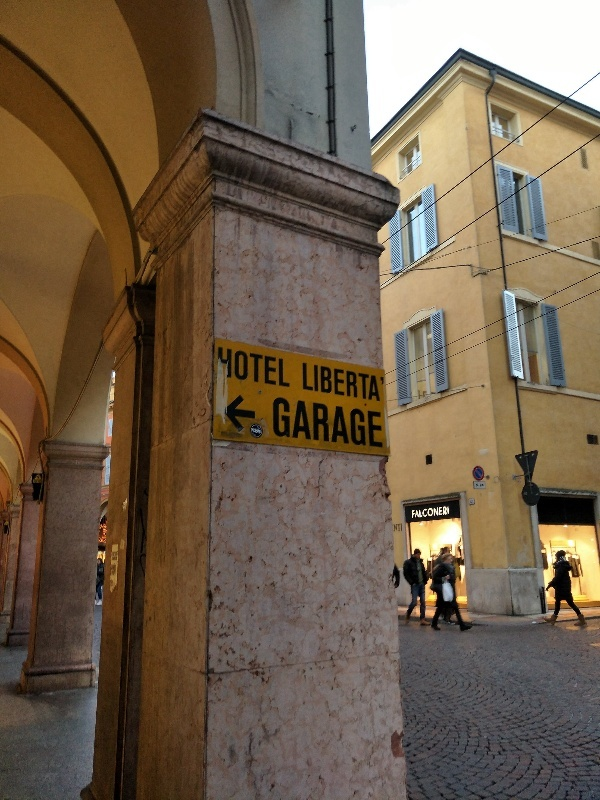text: (273, 396, 288, 450), (289, 396, 304, 450), (305, 396, 320, 450), (321, 396, 336, 450), (337, 396, 352, 450), (353, 396, 368, 450), (369, 396, 384, 450), (369, 360, 385, 403), (225, 344, 240, 389), (241, 344, 256, 389), (257, 344, 272, 389), (273, 344, 288, 389), (305, 360, 320, 403), (321, 360, 336, 403), (337, 360, 352, 403), (353, 360, 368, 403), (218, 344, 224, 389), (417, 506, 432, 519), (433, 506, 448, 519), (289, 344, 291, 389), (469, 499, 480, 505), (394, 523, 400, 532), (412, 506, 416, 519), (257, 427, 262, 436), (303, 360, 304, 403), (252, 427, 256, 436), (476, 483, 480, 488), (401, 523, 403, 532), (481, 483, 484, 488), (449, 506, 450, 519)
